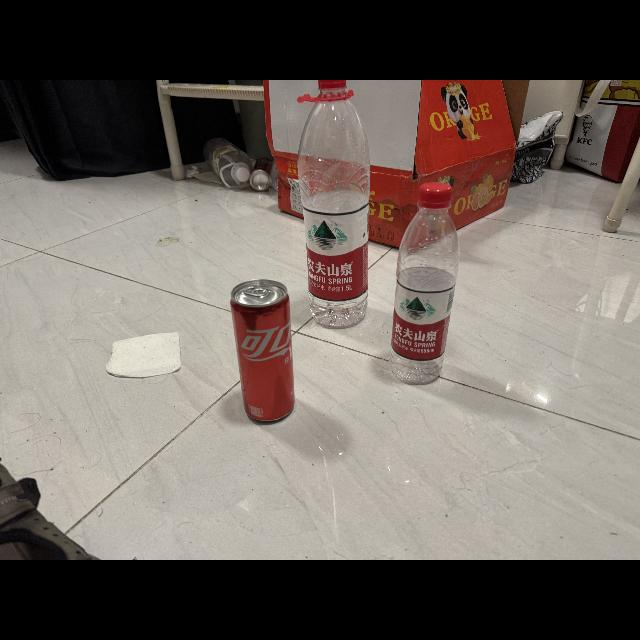Cola: (225, 271, 302, 431)
